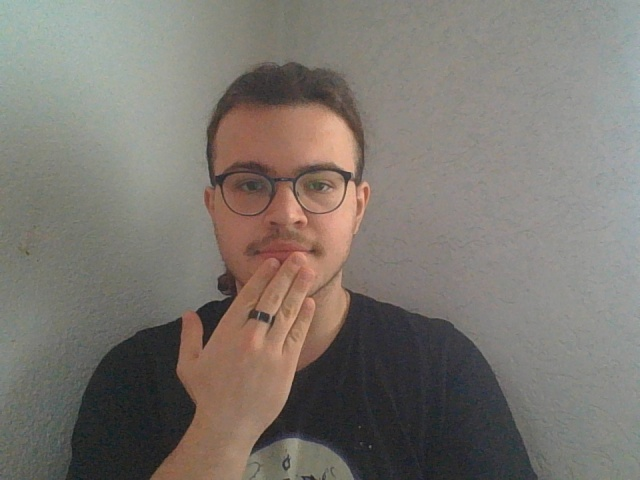ThankYou: (174, 249, 350, 480)
